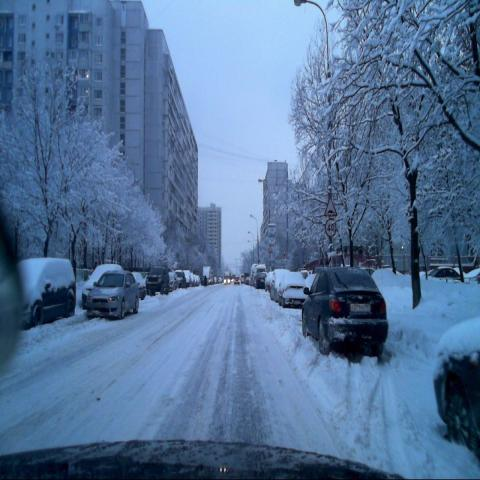1_17: (324, 195, 338, 217)
3_24: (325, 218, 337, 237)
